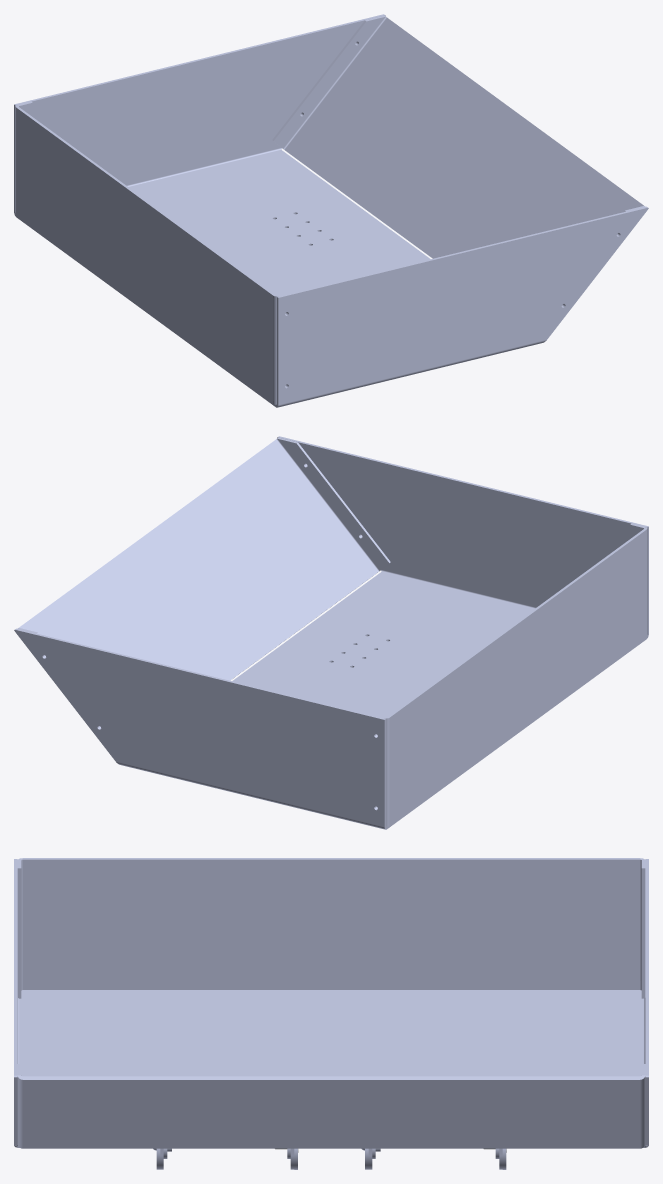
The model's file is cargo.obj.
The picture shows the model from 3 angles, top to bottom: view 1: azimuth 30°, elevation 25°; view 2: azimuth 150°, elevation 25°; view 3: azimuth 270°, elevation 25°; orthographic projection. The views are drawn at different scales.
Bounding box in the file's own units: 0.2158 × 0.088 × 0.265.
